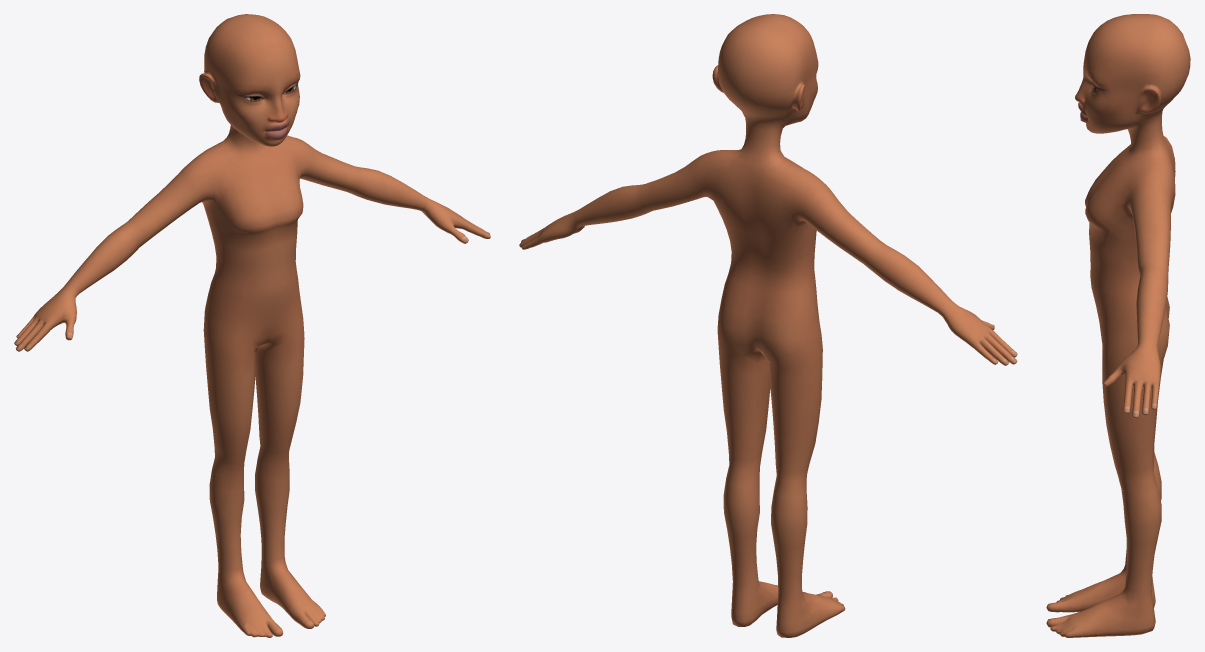
File: frame_0024.glb
3 views of the same model, side by side, from view 1: azimuth 30°, elevation 25°; view 2: azimuth 150°, elevation 25°; view 3: azimuth 270°, elevation 25° (orthographic). The views are drawn at different scales.
Parts seen in each view (by area): view 1: frame_0024_head_geo; view 2: frame_0024_head_geo; view 3: frame_0024_head_geo.
Part boxes in pixels (x1,y1,x2,y2): frame_0024_head_geo: (14,14,490,637); frame_0024_head_geo: (519,14,1017,637); frame_0024_head_geo: (1046,14,1190,637).
Size of the model in its own units: 1.28 by 1.5 by 0.3253.
Materials: 3 (3 with a texture image).
